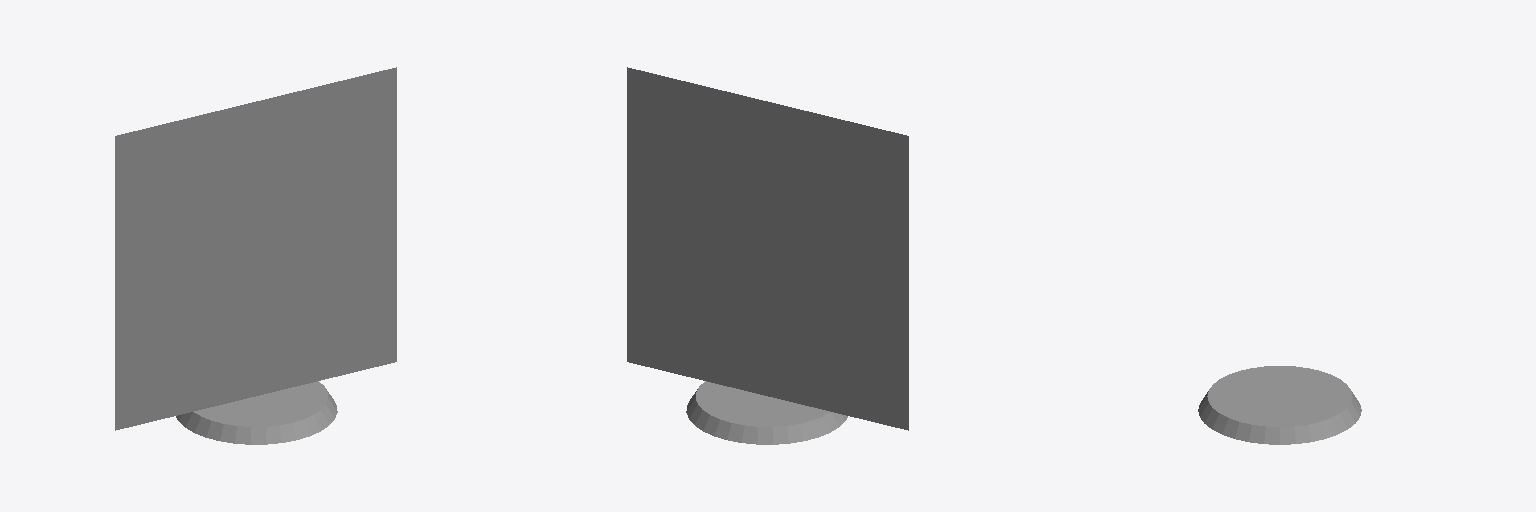
The picture shows the model from 3 angles: view 1: azimuth 30°, elevation 25°; view 2: azimuth 150°, elevation 25°; view 3: azimuth 270°, elevation 25°; orthographic projection.
Parts seen in each view (by area): view 1: face, face.001, base25m; view 2: face, face.001, base25m; view 3: base25m.
Part boxes in pixels (bbox=[...]): face: bbox=[115, 67, 396, 430]; face.001: bbox=[115, 68, 396, 429]; base25m: bbox=[176, 381, 337, 444]; face: bbox=[627, 67, 908, 430]; face.001: bbox=[627, 68, 908, 429]; base25m: bbox=[686, 381, 847, 444]; base25m: bbox=[1198, 366, 1361, 444].
Size of the model in its own units: 1.86 by 1.95 by 0.9344.